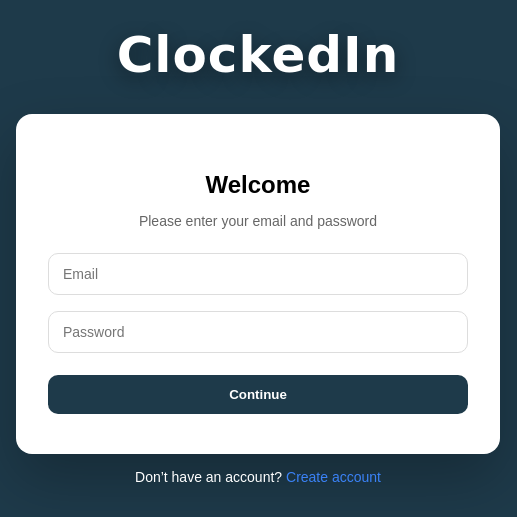
Test: Login component › shows server error text when login fails
Type "wrong@example.com" into the field with placeholder "Email" at (258, 274), box [48,252,468,294]
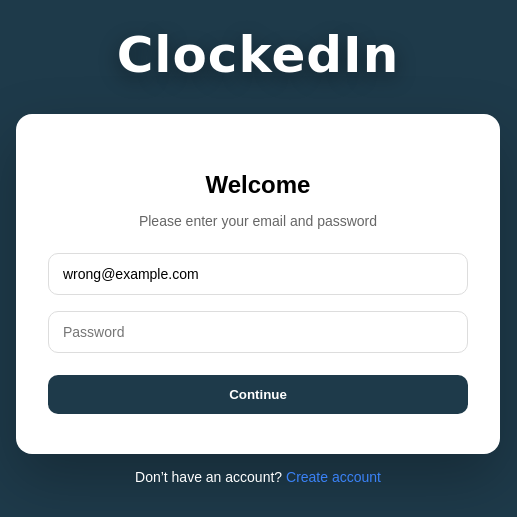
Type "wrongpass" into the password field with placeholder "Password" at (258, 332), box [48,310,468,352]
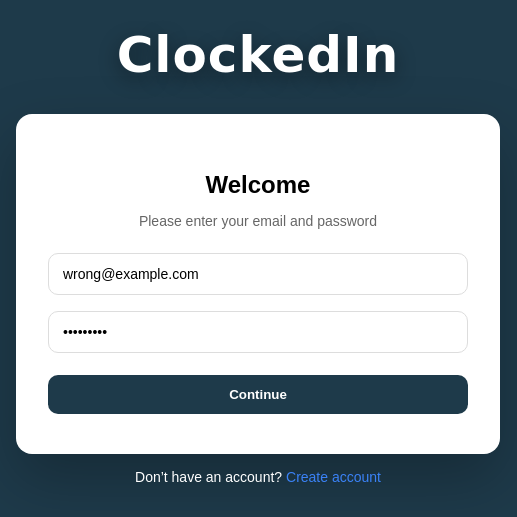
Click the button "Continue" at (258, 394), box [48,374,468,414]
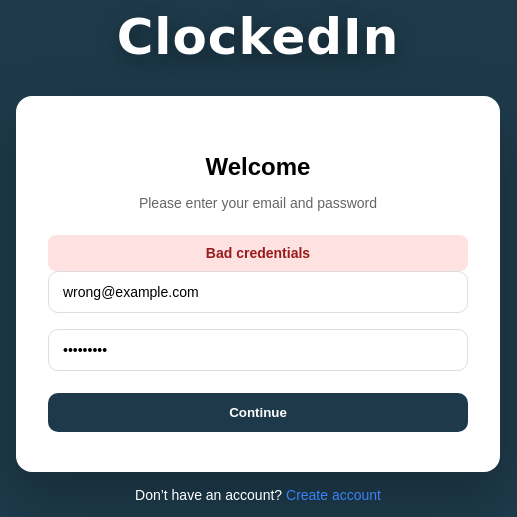
Now the text "Bad credentials" is shown, box [48,234,468,270]
